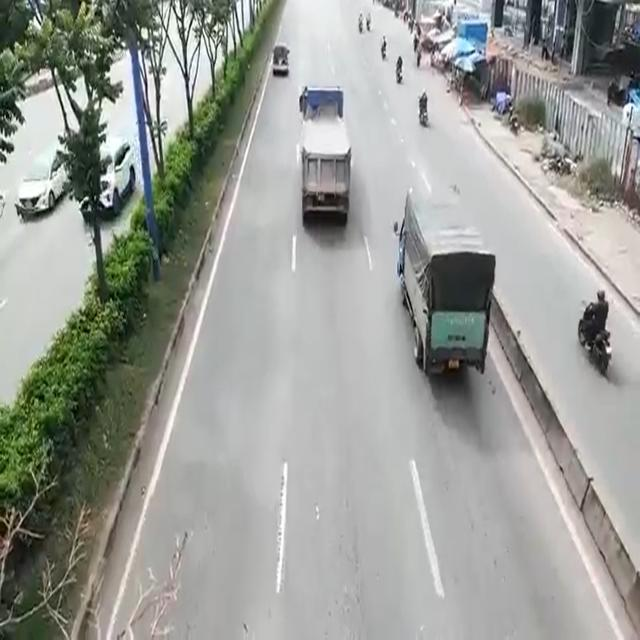car: (269, 34, 288, 77)
truck: (398, 184, 494, 369), (295, 86, 353, 237)
